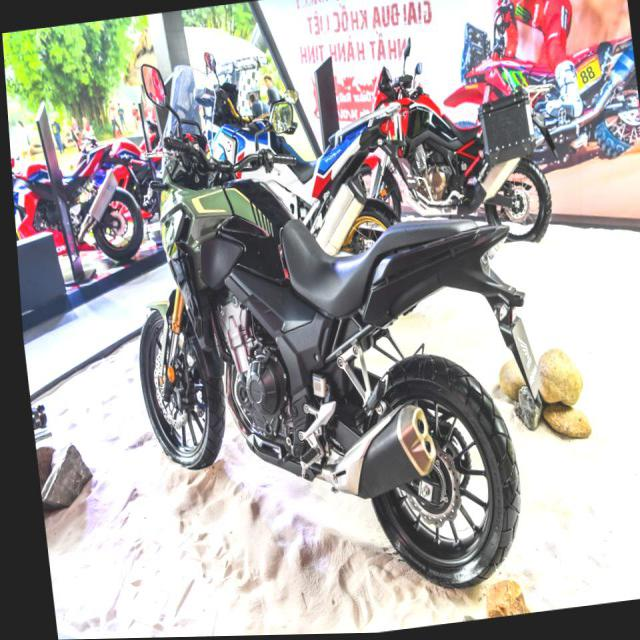CB500X: (99, 25, 528, 622)
